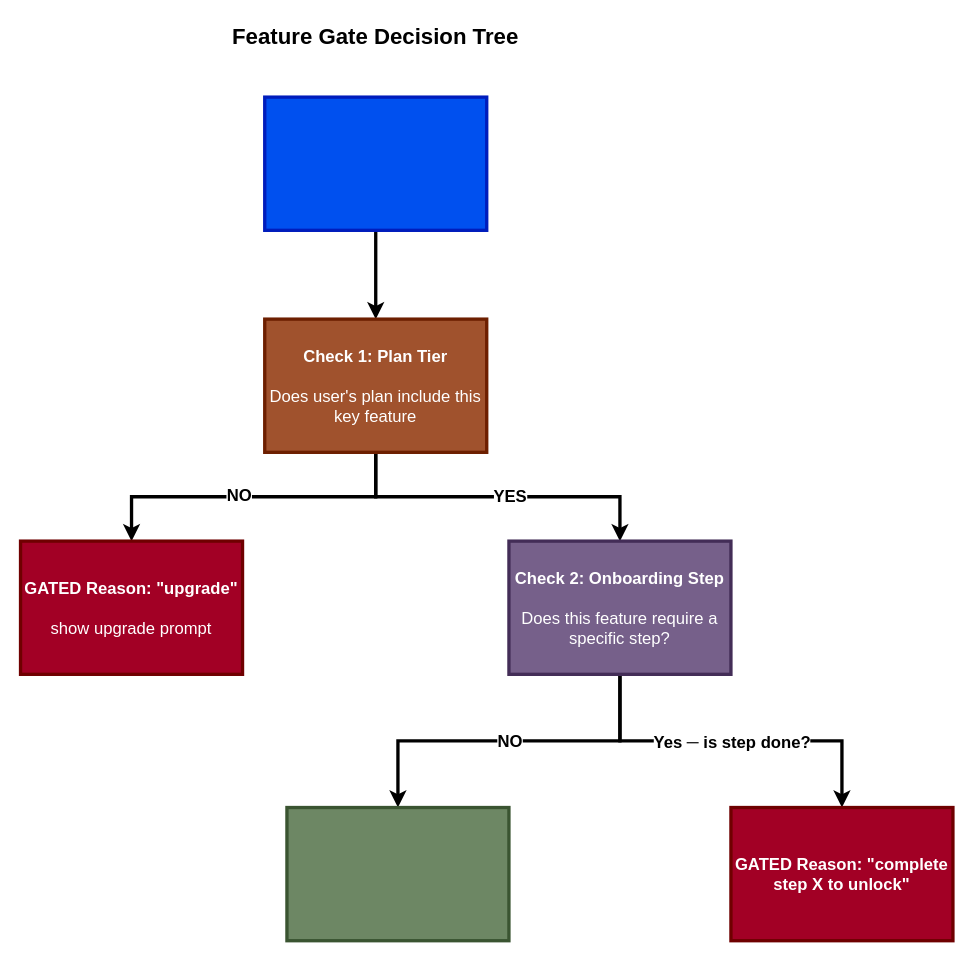
Some shapes in this 973 by 961 pixel diagram are drawn without their labels. The shapes that lost their labels are listed below. From the top down, each one's centre as x and y in pixels, then its label:
At pixel 375 163: "useFeatureGate() called by any component".
At pixel 397 873: "ENABLED render children".
